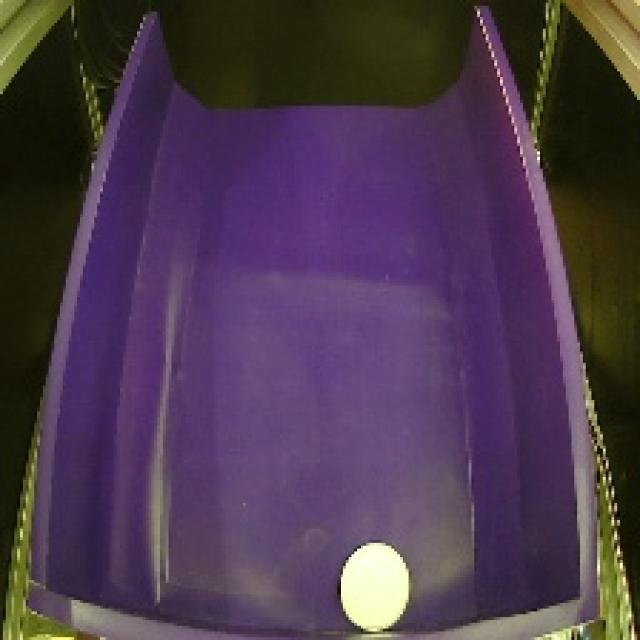small: (329, 534, 416, 639)
